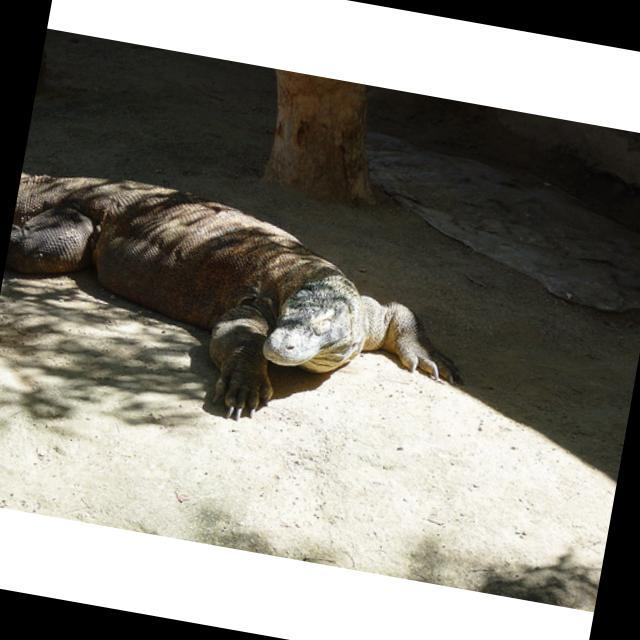KomodoDragon: (0, 161, 489, 458)
